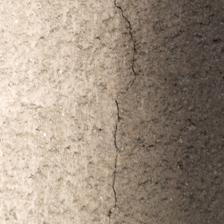Crack: (0, 0, 84, 85), (49, 10, 98, 122)
